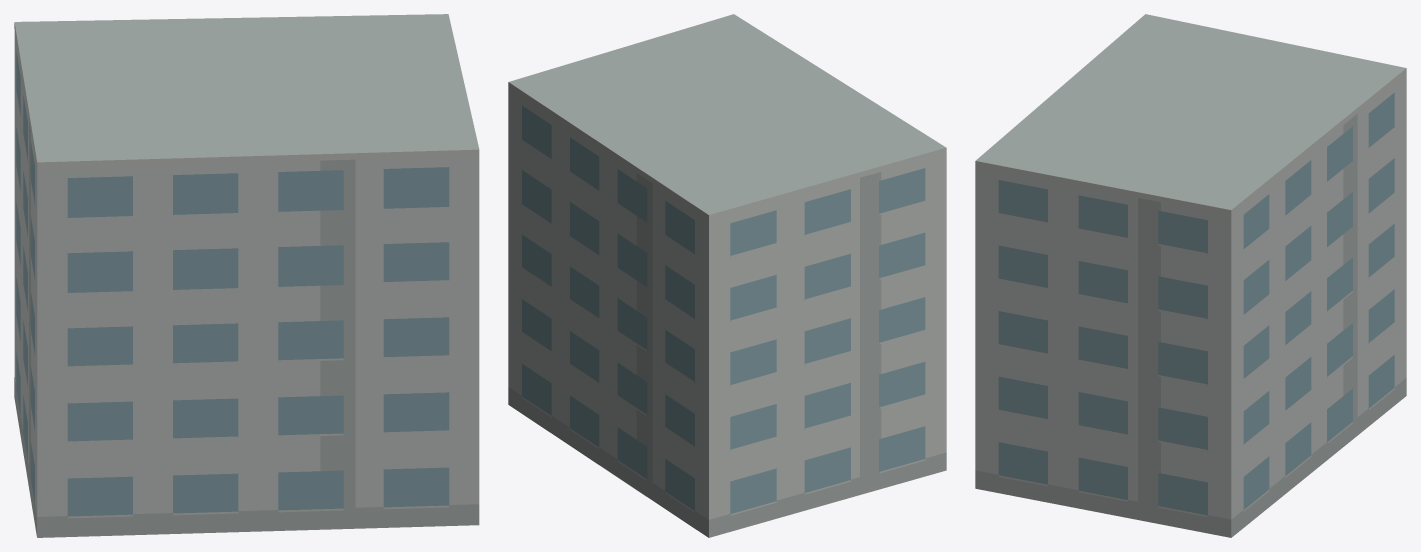
File: survey-upis-32885229.glb
The picture shows the model from 3 angles, left to right: view 1: azimuth 30°, elevation 25°; view 2: azimuth 150°, elevation 25°; view 3: azimuth 270°, elevation 25°; orthographic projection. The views are drawn at different scales.
Visible parts, largest first — view 1: survey-upis-32885229.tmp; view 2: survey-upis-32885229.tmp; view 3: survey-upis-32885229.tmp.
Part boxes in pixels (left/top/right/bottom): survey-upis-32885229.tmp: left=14, top=14, right=479, bottom=537; survey-upis-32885229.tmp: left=508, top=14, right=946, bottom=537; survey-upis-32885229.tmp: left=975, top=14, right=1406, bottom=537.
Bounding box in the file's own units: 18.1 × 14.1 × 16.82.
